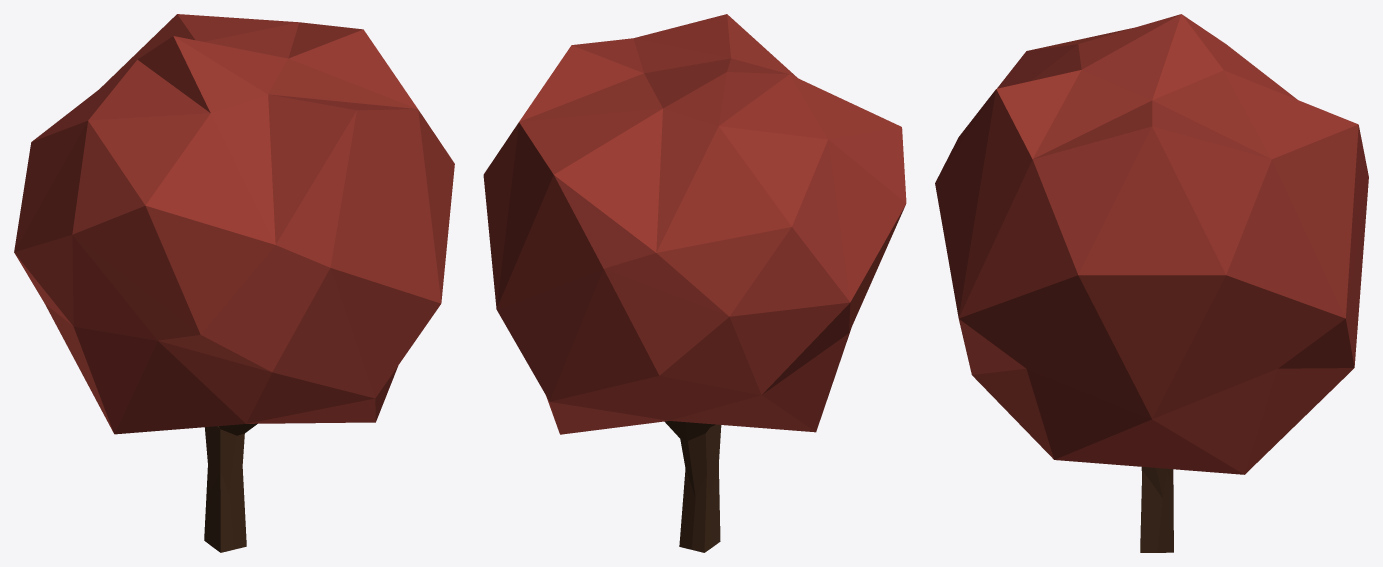
File: Tree_12_Red.fbx
3 renders of one model, left to right at view 1: azimuth 30°, elevation 25°; view 2: azimuth 150°, elevation 25°; view 3: azimuth 270°, elevation 25°, orthographic. The views are drawn at different scales.
Visible parts, largest first — view 1: Tree_12_Red_Part_1, Tree_12_Red_Part_2; view 2: Tree_12_Red_Part_1, Tree_12_Red_Part_2; view 3: Tree_12_Red_Part_1, Tree_12_Red_Part_2.
Part boxes in pixels (x1,y1,x2,y2): Tree_12_Red_Part_1: (14, 14, 454, 434); Tree_12_Red_Part_2: (204, 423, 257, 552); Tree_12_Red_Part_1: (483, 14, 906, 434); Tree_12_Red_Part_2: (664, 421, 721, 552); Tree_12_Red_Part_1: (935, 14, 1368, 474); Tree_12_Red_Part_2: (1140, 467, 1173, 552).
Size of the model in its own units: 583 by 758 by 582.
